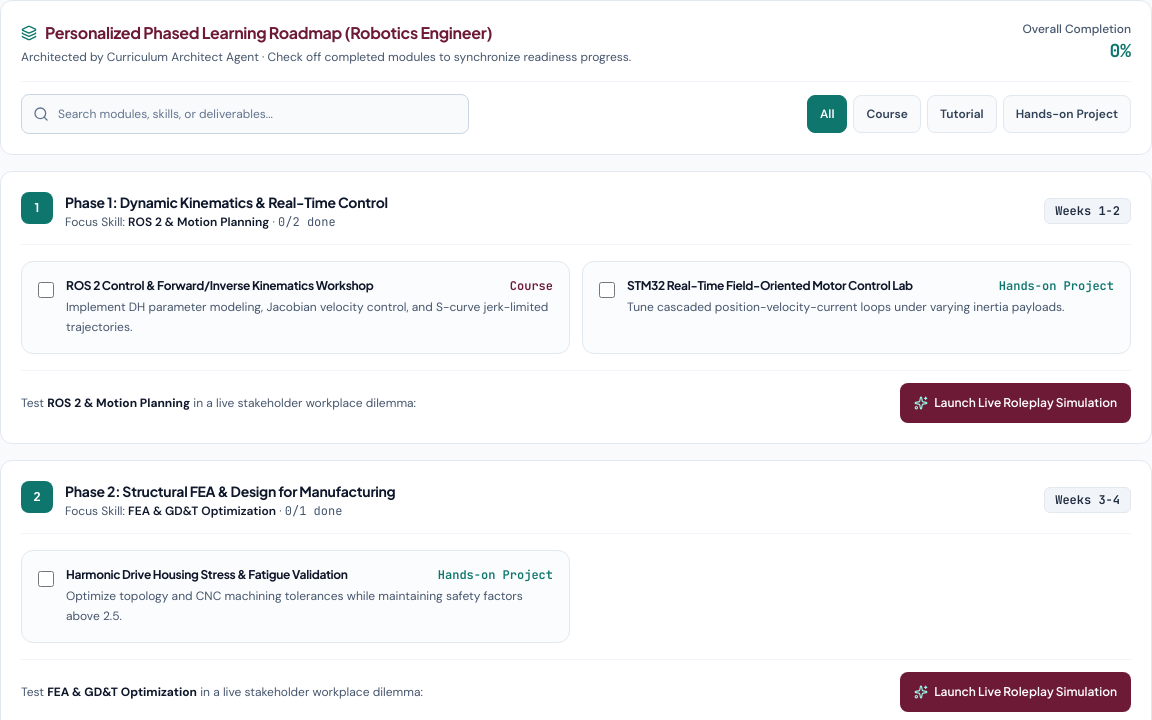
Test: RoadmapTab & ReadinessTab new UI features › filters roadmap modules by search query and resource format
Expected: the text "ROS 2 Control & Forward/Inverse Kinematics Workshop" is shown, [66,278,374,294]
Click the button "Hands-on Project".
click(1067, 114)  # box [1003,95,1131,133]
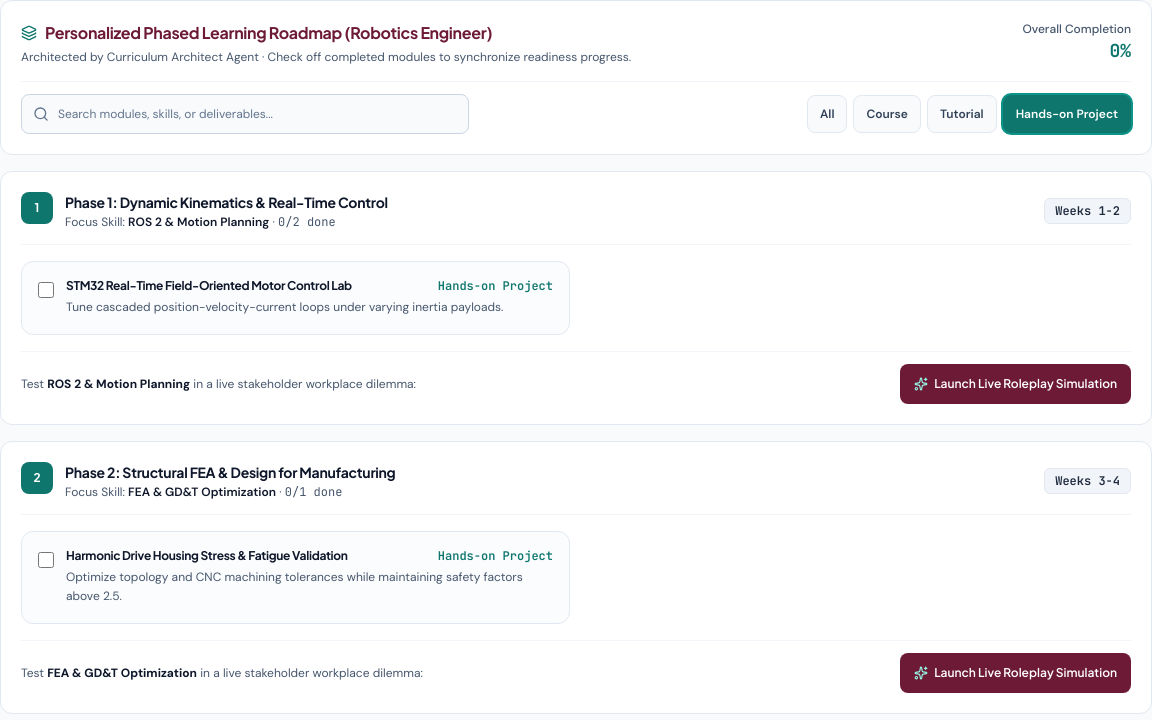
Expected: the text "ROS 2 Control & Forward/Inverse Kinematics Workshop" is gone
Type "nonexistent-module-xyz" into the field named "Search roadmap modules".
click(245, 114); type("nonexistent-module-xyz")  # box [21,94,469,134]
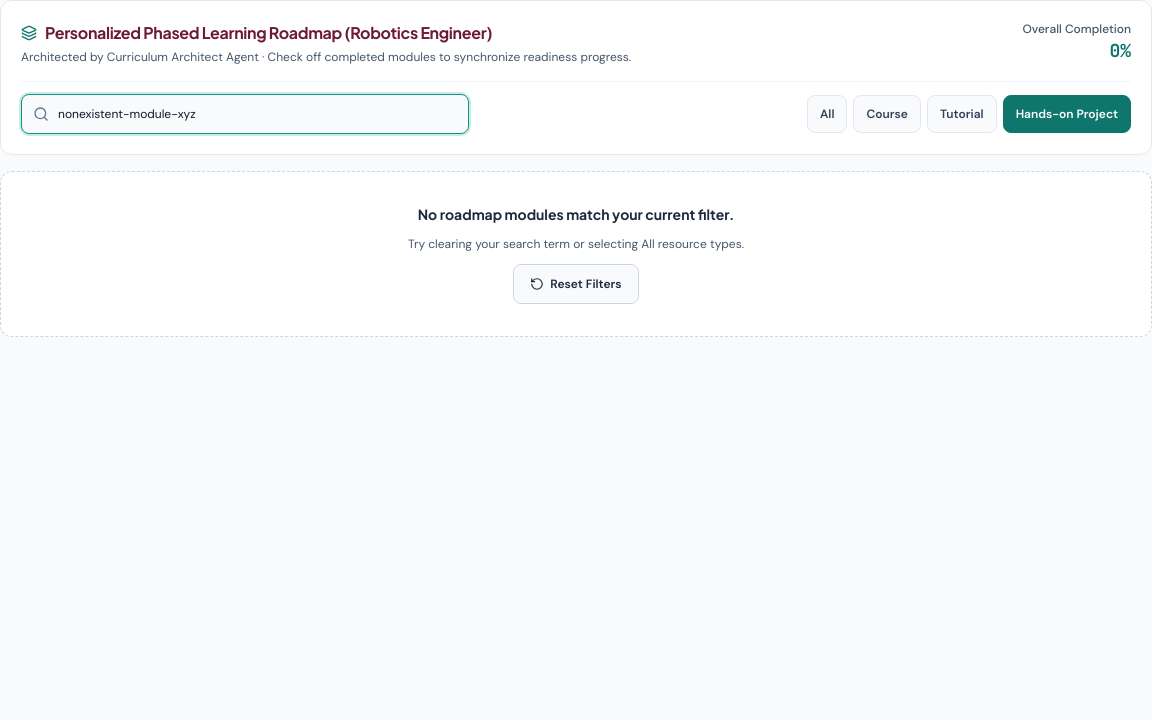
Expected: the text "No roadmap modules match your current filter." is shown, [418,205,734,223]
Click the button "Reset Filters".
click(576, 284)  # box [513,264,639,304]
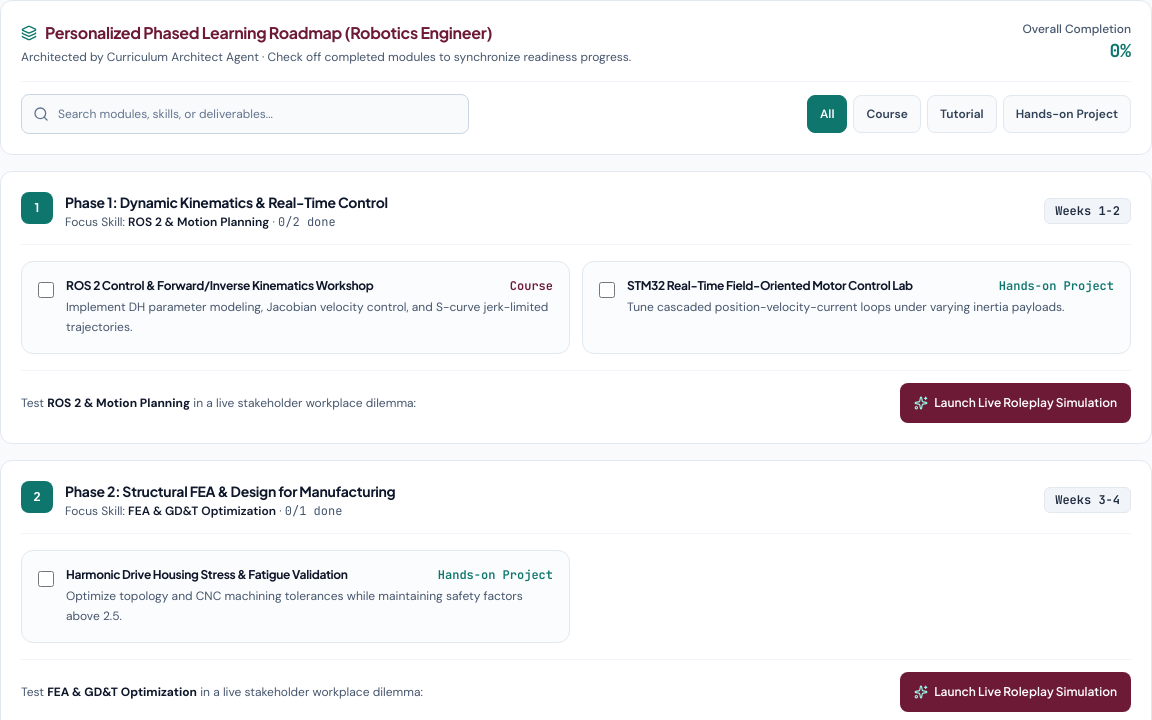
Expected: the text "No roadmap modules match your current filter" is gone
